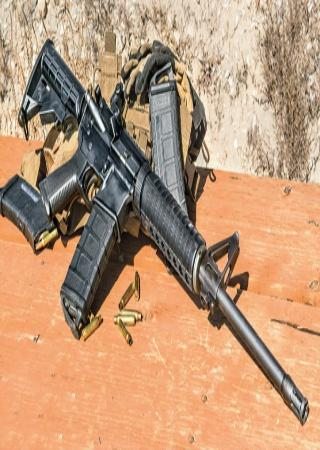weapon: (19, 40, 310, 423)
